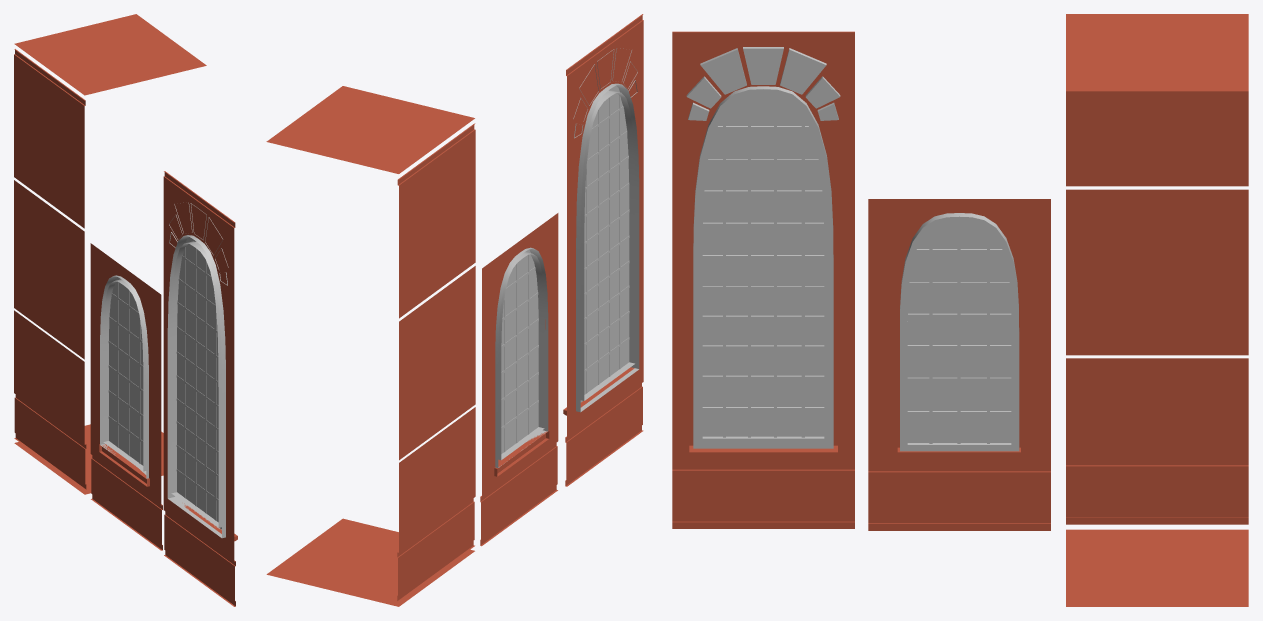
Rendered from walls.fbx.
3 views of the same model, side by side, from view 1: azimuth 30°, elevation 25°; view 2: azimuth 150°, elevation 25°; view 3: azimuth 270°, elevation 25° (orthographic). The views are drawn at different scales.
Parts seen in each view (by area): view 1: Plane.007, Plane.006, Plane.001, Plane.109, Plane.219, Plane.004, Cube.104, Plane.098, Plane.097, Plane.002, Plane.005, Cube.113 (+5 smaller); view 2: Plane.007, Plane.006, Plane.001, Plane.109, Plane.219, Plane.220, Plane.004, Cube.104, Plane.098, Plane.097, Plane.002, Plane.005 (+5 smaller); view 3: Plane.109, Plane.001, Plane.006, Plane.004, Plane.002, Plane.007, Plane.097, Plane.219, Plane.220, Plane.005, Plane.098, Cube.104 (+9 smaller).
Boxes of the visible parts, box(x1,y1,x2,y2) form: Plane.007: box(14, 49, 85, 228); Plane.006: box(14, 310, 86, 489); Plane.001: box(14, 180, 84, 359); Plane.109: box(177, 244, 218, 522); Plane.219: box(14, 14, 206, 95); Plane.004: box(90, 371, 162, 550); Cube.104: box(167, 235, 225, 538); Plane.098: box(163, 171, 235, 350); Plane.097: box(163, 427, 235, 606); Plane.002: box(109, 282, 143, 465); Plane.005: box(90, 243, 161, 422); Cube.113: box(176, 242, 218, 520); Plane.007: box(397, 123, 475, 318); Plane.006: box(397, 407, 475, 601); Plane.001: box(399, 266, 475, 460); Plane.109: box(584, 93, 629, 394); Plane.219: box(266, 86, 474, 173); Plane.220: box(266, 518, 474, 606); Plane.004: box(480, 352, 558, 546); Cube.104: box(576, 83, 639, 412); Plane.098: box(566, 14, 643, 208); Plane.097: box(565, 292, 643, 486); Plane.002: box(501, 254, 538, 453); Plane.005: box(482, 213, 558, 406); Plane.109: box(702, 98, 824, 436); Plane.001: box(1066, 189, 1248, 355); Plane.006: box(1066, 358, 1248, 524); Plane.004: box(868, 364, 1050, 530); Plane.002: box(907, 223, 1011, 442); Plane.007: box(1066, 91, 1248, 186); Plane.097: box(672, 362, 854, 528); Plane.219: box(1066, 14, 1248, 91); Plane.220: box(1066, 529, 1248, 606); Plane.005: box(868, 199, 1050, 364); Plane.098: box(672, 31, 854, 196); Cube.104: box(693, 86, 833, 448).
Bounding box in the file's own units: 125 × 368 × 373.
